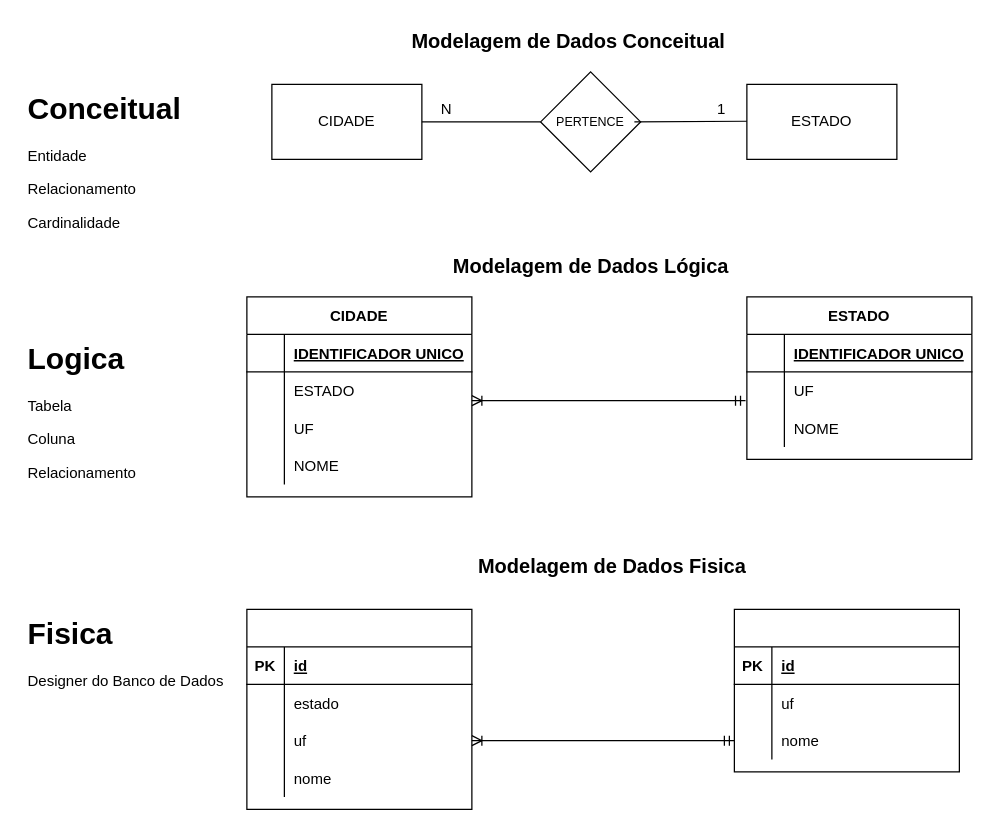
Image size: 994x831. Some labels were removed from this diagram. Each missing label, with the box of its shape:
tb_cidade: (246, 608, 472, 809)
tb_estado: (733, 608, 959, 772)
